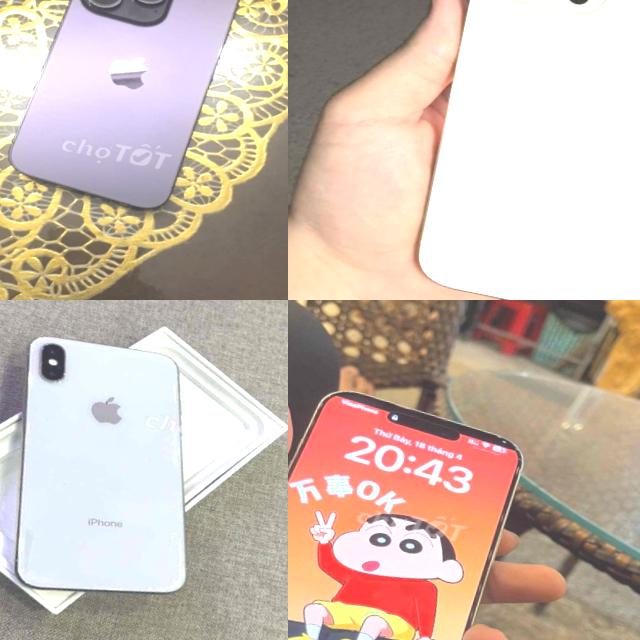gen_14: (0, 0, 254, 232)
gen_15: (288, 342, 539, 640), (394, 0, 640, 300)
gen_x_xs: (0, 313, 236, 624)
